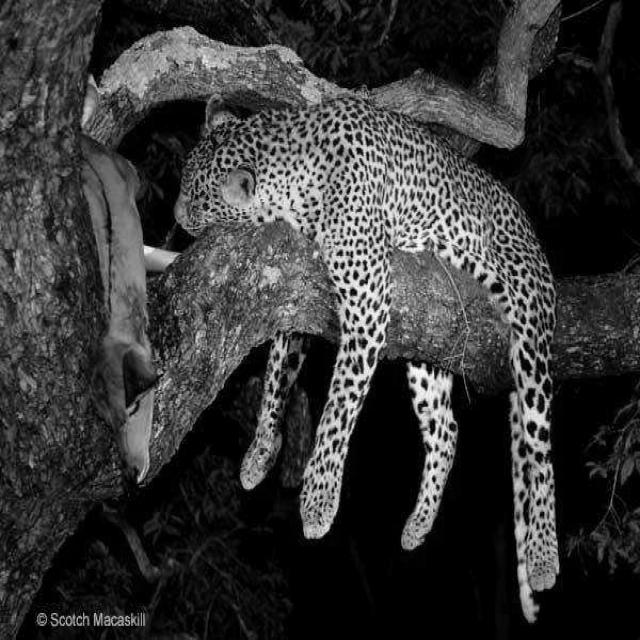Leopard: (172, 90, 560, 623)
